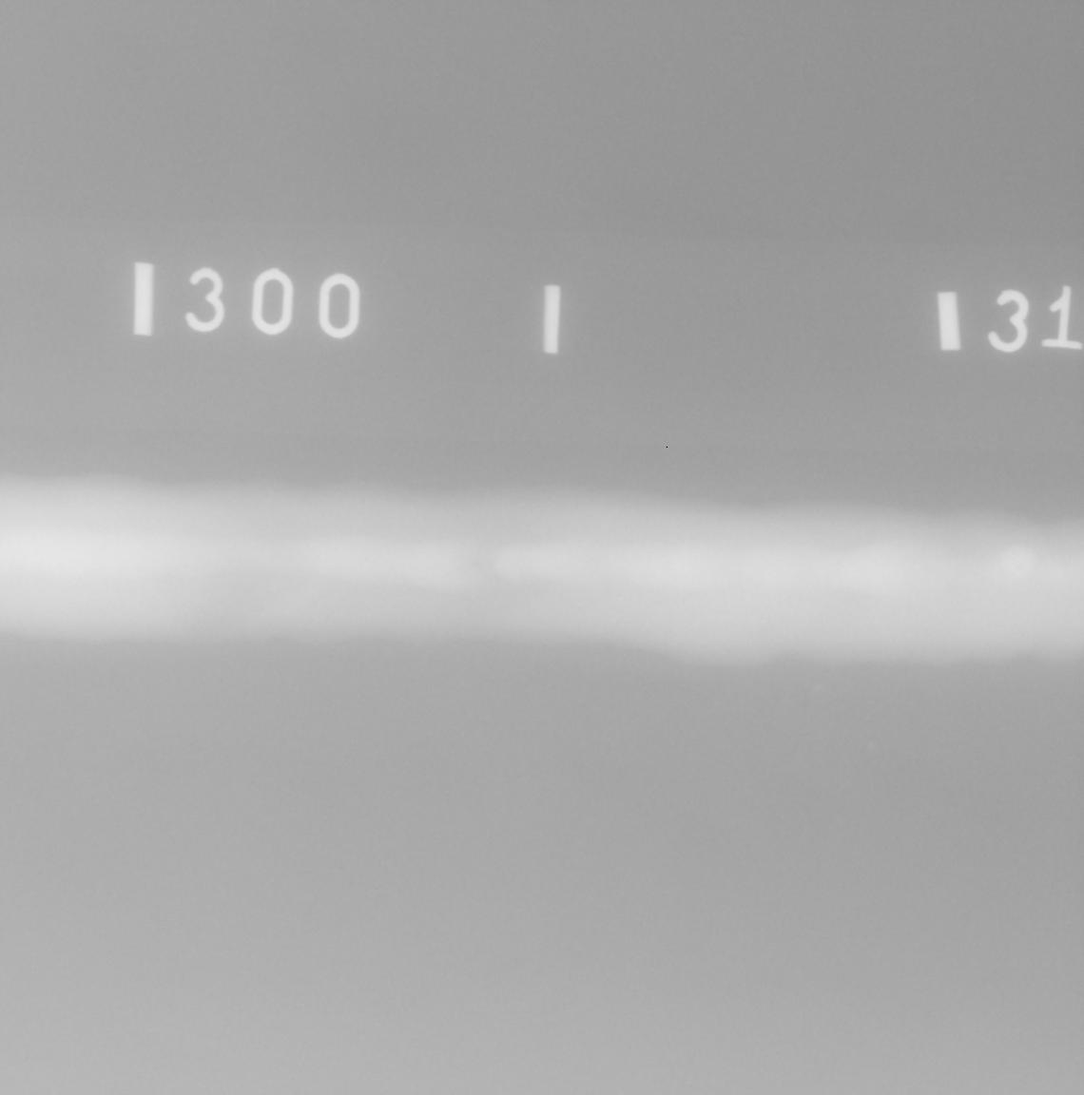Inclusion: (471, 561, 478, 566)
Pore/Porosity: (1015, 564, 1023, 571)
